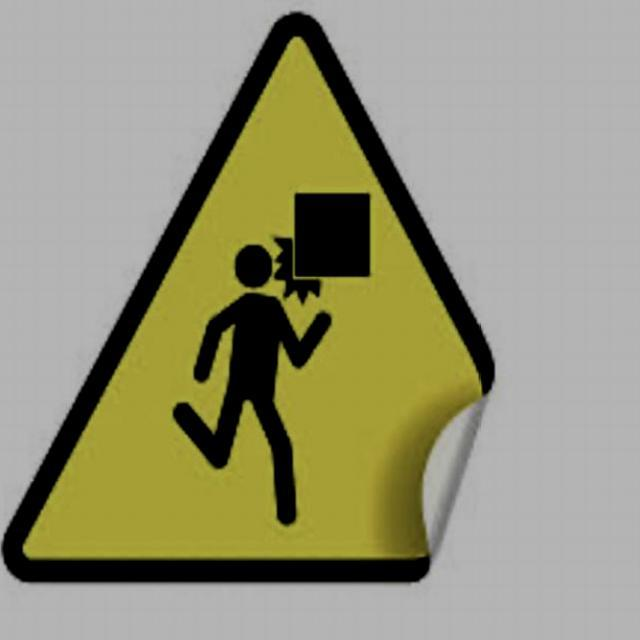damaged_missing_road_sign: (4, 6, 500, 592)
